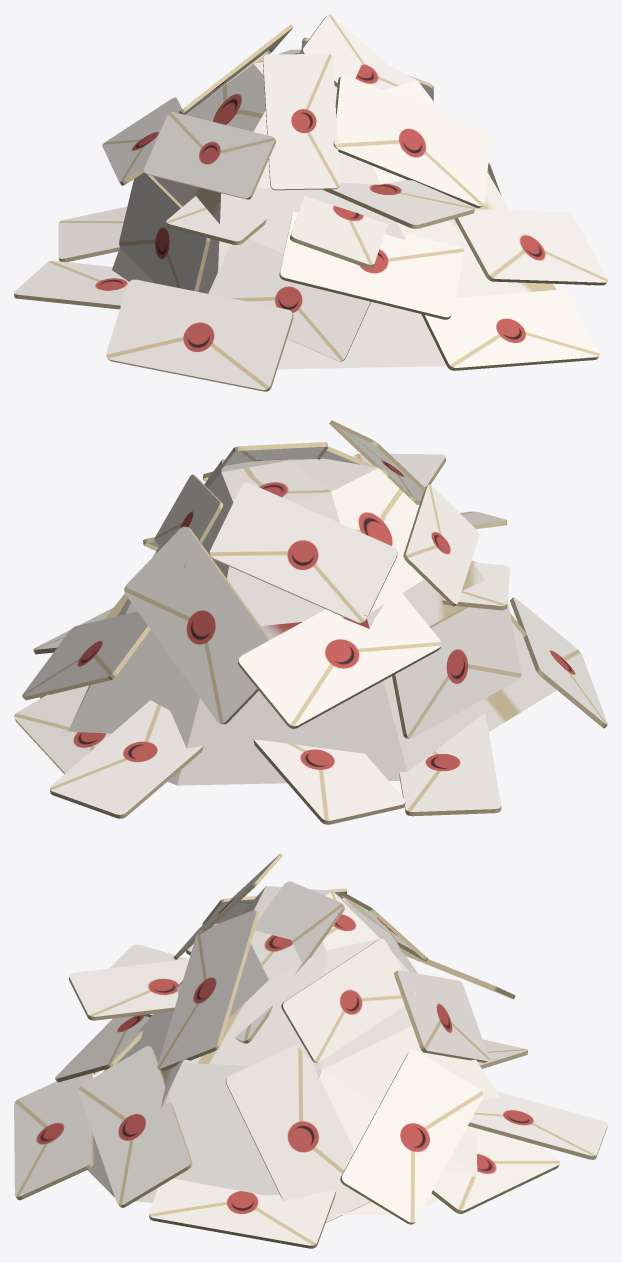
The model's file is 3D_letter_stack_1.fbx.
The picture shows the model from 3 angles, top to bottom: view 1: azimuth 30°, elevation 25°; view 2: azimuth 150°, elevation 25°; view 3: azimuth 270°, elevation 25°; orthographic projection. The views are drawn at different scales.
Visible parts, largest first — view 1: Letter_Stack_1_Joined; view 2: Letter_Stack_1_Joined; view 3: Letter_Stack_1_Joined.
Boxes of the visible parts, x1=… form: Letter_Stack_1_Joined: x1=14, y1=14, x2=607, y2=391; Letter_Stack_1_Joined: x1=14, y1=420, x2=607, y2=824; Letter_Stack_1_Joined: x1=14, y1=853, x2=607, y2=1248.
Size of the model in its own units: 2.19 by 1.12 by 2.36.
